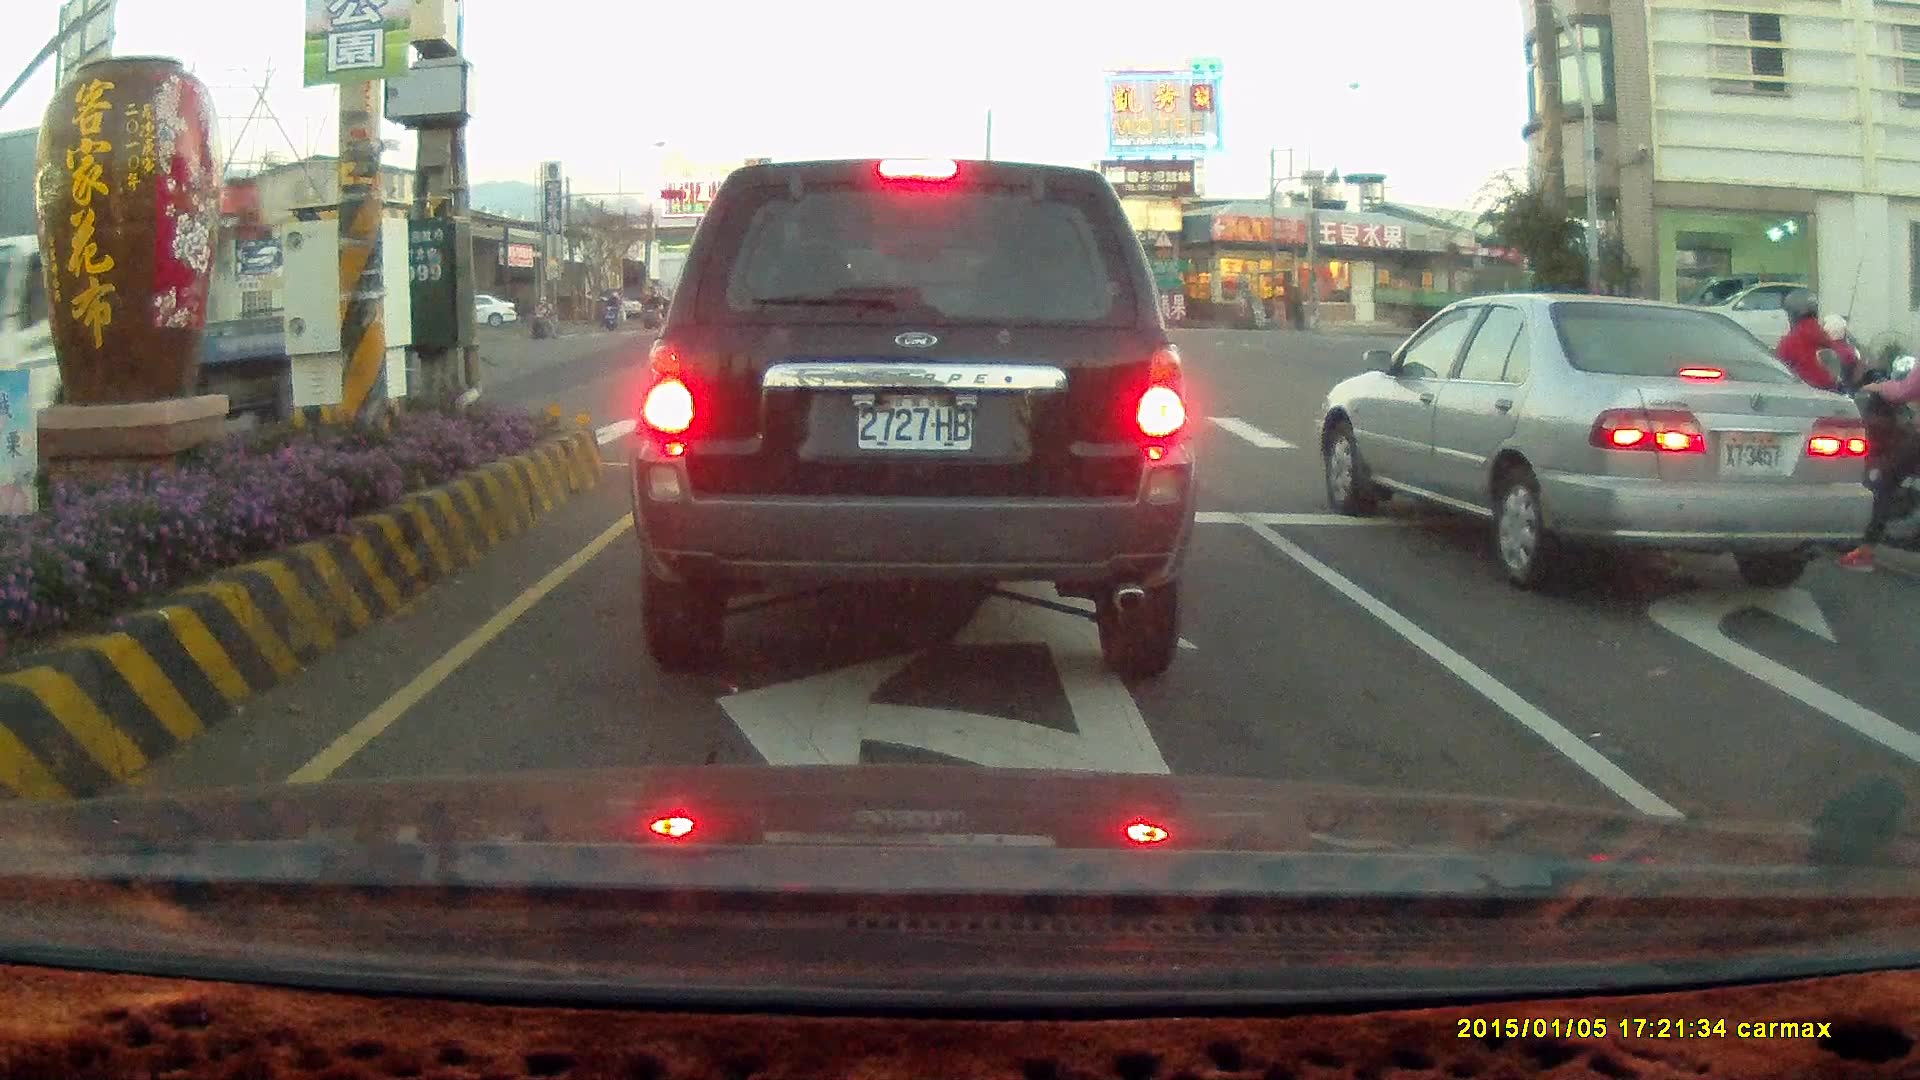rider: (1720, 287, 1860, 543), (1814, 346, 1920, 571), (529, 289, 562, 339), (600, 291, 621, 332), (645, 292, 666, 329)
vehicle: (627, 155, 1197, 681), (1316, 290, 1876, 596), (1332, 294, 1876, 579), (1656, 276, 1863, 372), (1668, 275, 1823, 373), (1896, 493, 1920, 836)
